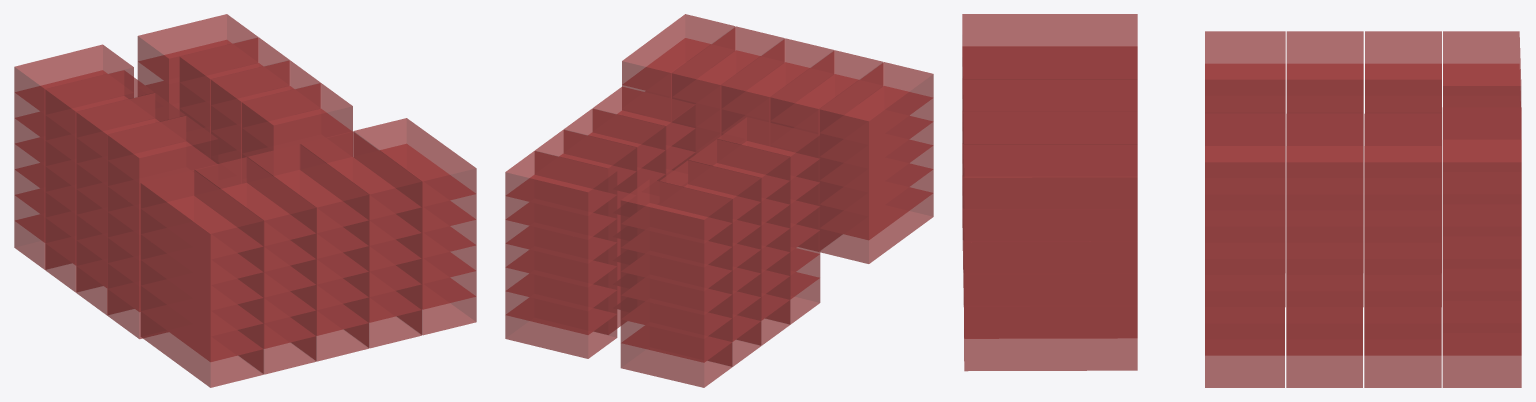
File: CUBOS2.dae
The picture shows the model from 3 angles, left to right: view 1: azimuth 30°, elevation 25°; view 2: azimuth 150°, elevation 25°; view 3: azimuth 270°, elevation 25°; orthographic projection. The views are drawn at different scales.
Visible parts, largest first — view 1: SAB_0A_N006_P_0601, SAB_0A_N005_P_0501, SAB_0A_N001_P_0101, SAB_0A_N003_P_0301, SAB_0A_N002_P_0201, SAB_0A_N006_P_0605, SAB_0A_N006_P_0602, SAB_0B_N006_P_0605, SAB_0A_N006_P_0603, SAB_0B_N006_P_0601, SAB_0A_N006_P_0604, SAB_0B_N006_P_0607 (+58 smaller); view 2: SAB_0A_N006_P_0601, SAB_0A_N005_P_0501, SAB_0B_N006_P_0604, SAB_0B_N005_P_0504, SAB_0B_N006_P_0608, SAB_0B_N005_P_0508, SAB_0B_N0PB_P_0008, SAB_0A_N001_P_0101, SAB_0A_N003_P_0301, SAB_0A_N002_P_0201, SAB_0B_N0PB_P_0004, SAB_0B_N003_P_0304 (+53 smaller); view 3: SAB_0A_N006_P_0605, SAB_0A_N005_P_0505, SAB_0A_N001_P_0105, SAB_0A_N002_P_0205, SAB_0A_N003_P_0305, SAB_0A_N004_P_0405, SAB_0B_N006_P_0604, SAB_0B_N005_P_0504, SAB_0B_N006_P_0605, SAB_0B_N006_P_0601, SAB_0B_N005_P_0505, SAB_0B_N005_P_0501 (+34 smaller).
Boxes of the visible parts, <box> form: SAB_0A_N006_P_0601: <box>140,170,263,259</box>; SAB_0A_N005_P_0501: <box>140,196,263,285</box>; SAB_0A_N001_P_0101: <box>140,305,263,387</box>; SAB_0A_N003_P_0301: <box>140,254,263,336</box>; SAB_0A_N002_P_0201: <box>140,279,263,361</box>; SAB_0A_N006_P_0605: <box>353,118,476,206</box>; SAB_0A_N006_P_0602: <box>194,157,316,246</box>; SAB_0B_N006_P_0605: <box>107,115,218,183</box>; SAB_0A_N006_P_0603: <box>247,144,368,232</box>; SAB_0B_N006_P_0601: <box>242,83,352,150</box>; SAB_0A_N006_P_0604: <box>300,131,421,219</box>; SAB_0B_N006_P_0607: <box>45,70,154,136</box>; SAB_0A_N006_P_0601: <box>819,62,933,144</box>; SAB_0A_N005_P_0501: <box>819,86,933,168</box>; SAB_0B_N006_P_0604: <box>505,151,617,215</box>; SAB_0B_N005_P_0504: <box>505,175,617,239</box>; SAB_0B_N006_P_0608: <box>620,179,732,243</box>; SAB_0B_N005_P_0508: <box>620,203,732,267</box>; SAB_0B_N0PB_P_0008: <box>620,325,732,387</box>; SAB_0A_N001_P_0101: <box>820,187,933,263</box>; SAB_0A_N003_P_0301: <box>820,140,933,216</box>; SAB_0A_N002_P_0201: <box>820,163,933,240</box>; SAB_0B_N0PB_P_0004: <box>505,297,617,358</box>; SAB_0B_N003_P_0304: <box>505,226,617,287</box>; SAB_0A_N006_P_0605: <box>964,144,1137,209</box>; SAB_0A_N005_P_0505: <box>964,177,1137,242</box>; SAB_0A_N001_P_0105: <box>964,306,1137,371</box>; SAB_0A_N002_P_0205: <box>964,274,1137,338</box>; SAB_0A_N003_P_0305: <box>964,242,1137,306</box>; SAB_0A_N004_P_0405: <box>964,210,1137,274</box>; SAB_0B_N006_P_0604: <box>1442,107,1521,194</box>; SAB_0B_N005_P_0504: <box>1442,140,1521,226</box>; SAB_0B_N006_P_0605: <box>1205,31,1285,111</box>; SAB_0B_N006_P_0601: <box>1205,113,1284,194</box>; SAB_0B_N005_P_0505: <box>1205,64,1285,144</box>; SAB_0B_N005_P_0501: <box>1205,146,1284,226</box>.
Size of the model in its own units: 29.95 by 19.54 by 43.26.
